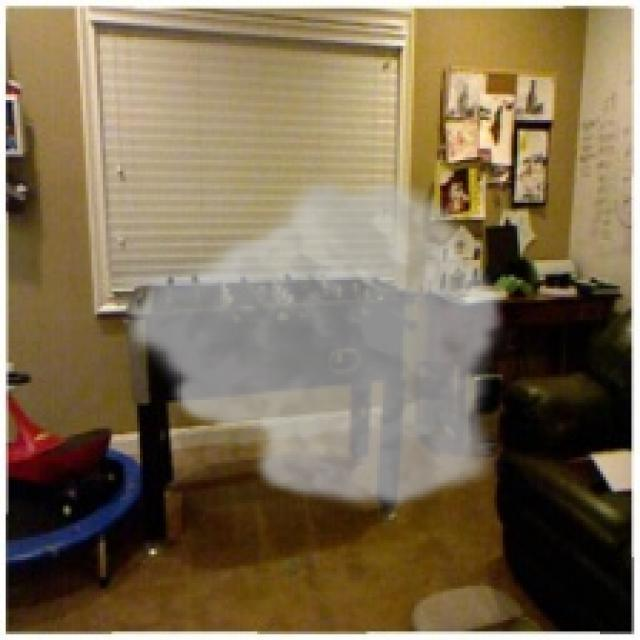Smoke: (117, 168, 509, 514)
